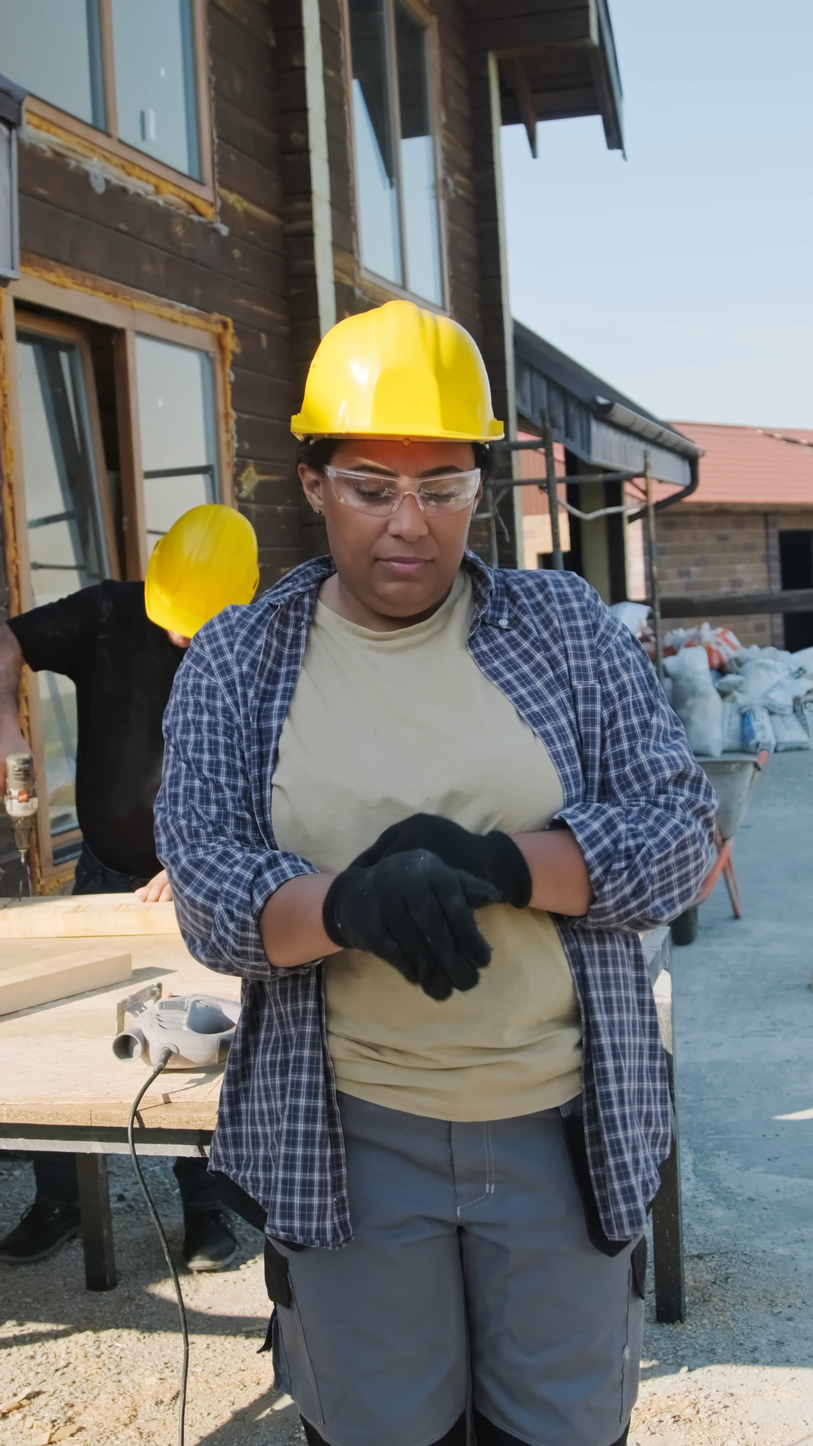gloves: (388, 768, 571, 917), (333, 866, 510, 992)
